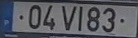0: (27, 3, 42, 30)
3: (101, 6, 117, 33)
4: (41, 4, 55, 31)
8: (86, 6, 101, 33)
I: (77, 5, 83, 32)
V: (60, 4, 78, 32)
